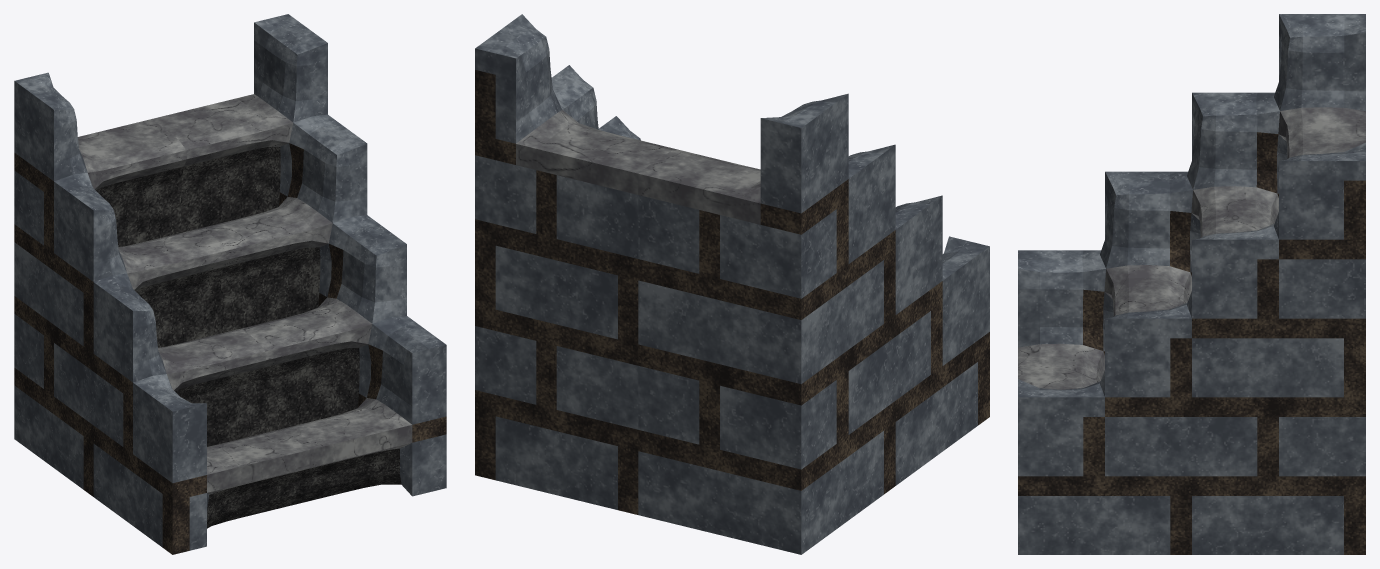
File: stairs_narrow.glb
The picture shows the model from 3 angles, left to right: view 1: azimuth 30°, elevation 25°; view 2: azimuth 150°, elevation 25°; view 3: azimuth 270°, elevation 25°; orthographic projection. The views are drawn at different scales.
Visible parts, largest first — view 1: crypt_stairs_narrow; view 2: crypt_stairs_narrow; view 3: crypt_stairs_narrow.
Boxes of the visible parts, x1,y1,x2,y2 form: crypt_stairs_narrow: (14, 14, 446, 554); crypt_stairs_narrow: (475, 14, 989, 554); crypt_stairs_narrow: (1018, 14, 1365, 554).
Bounding box in the file's own units: 1 × 1.25 × 1.
Materials: 1 (1 with a texture image).
